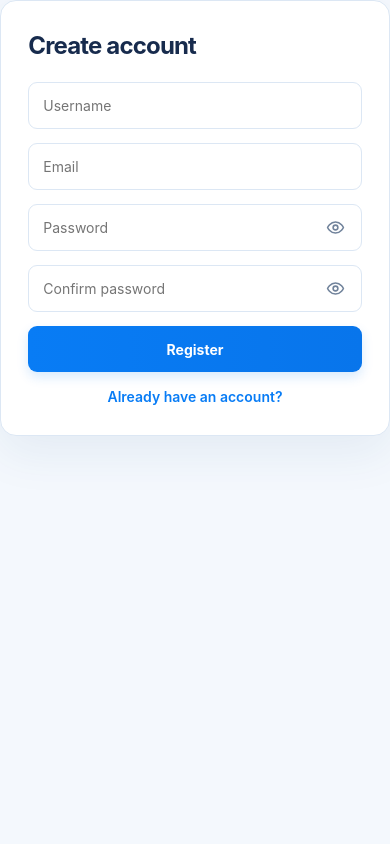
Register › explains when the registration API cannot be reached
This screenshot has width=390, height=844.
Step 1. Type "new-user" into the field with placeholder "Username" → (195, 106), box [28,82,362,129]
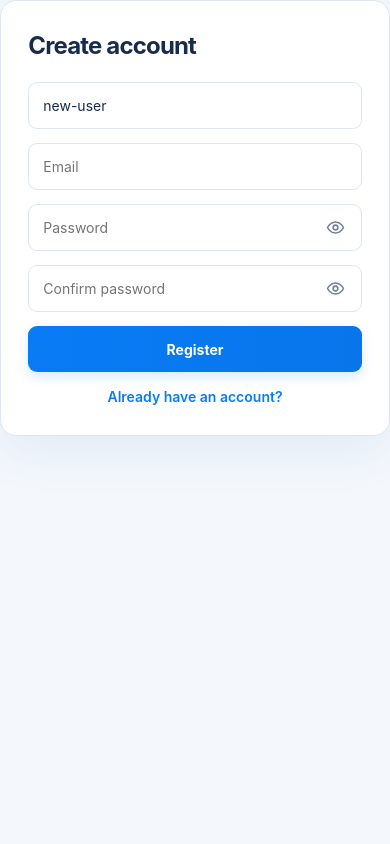
Step 2. Type "new@example.com" into the field with placeholder "Email" → (195, 167), box [28,143,362,190]
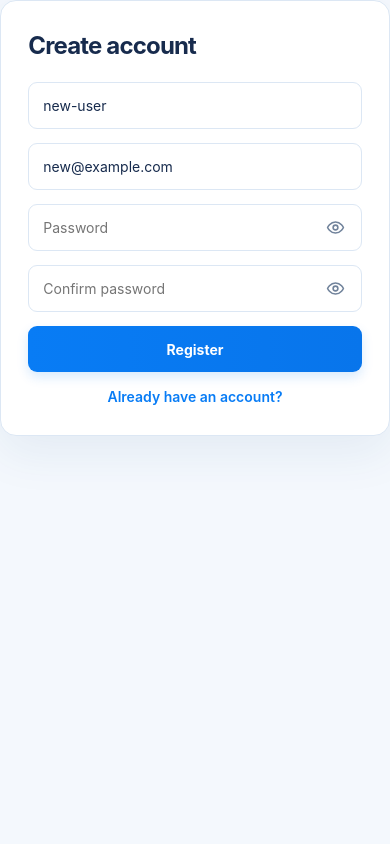
Step 3. Type "StrongPassword123!" into the password field with placeholder "Password" → (195, 228), box [28,204,362,251]
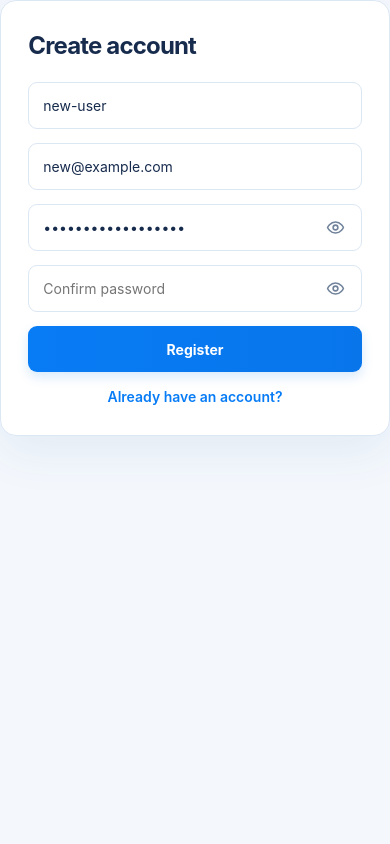
Step 4. Type "StrongPassword123!" into the password field with placeholder "Confirm password" → (195, 289), box [28,265,362,312]
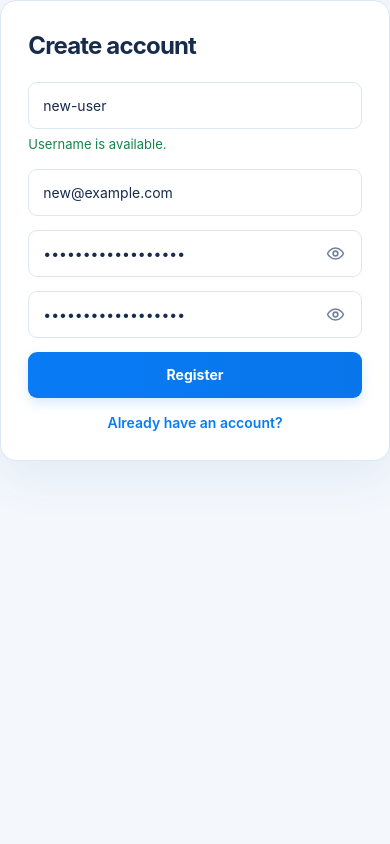
Check: the text "Username is available." is shown, box [28,136,166,152]
Step 5. Click the button "Register" → (195, 375), box [28,352,362,398]
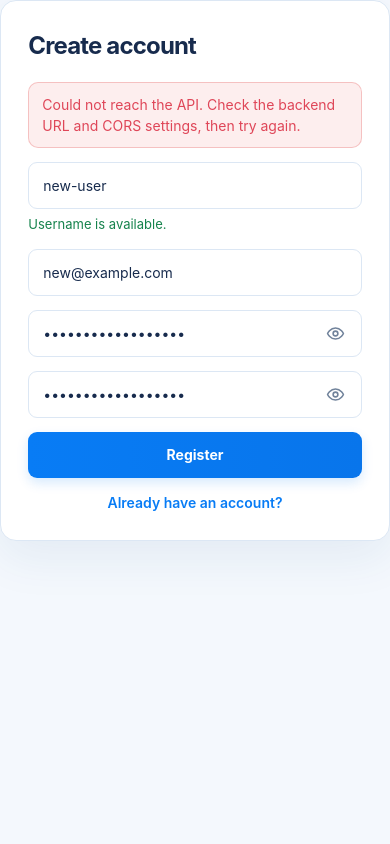
Check: the text "Could not reach the API. Check the backend URL and CORS settings, then try again." is shown, box [42,96,335,134]
